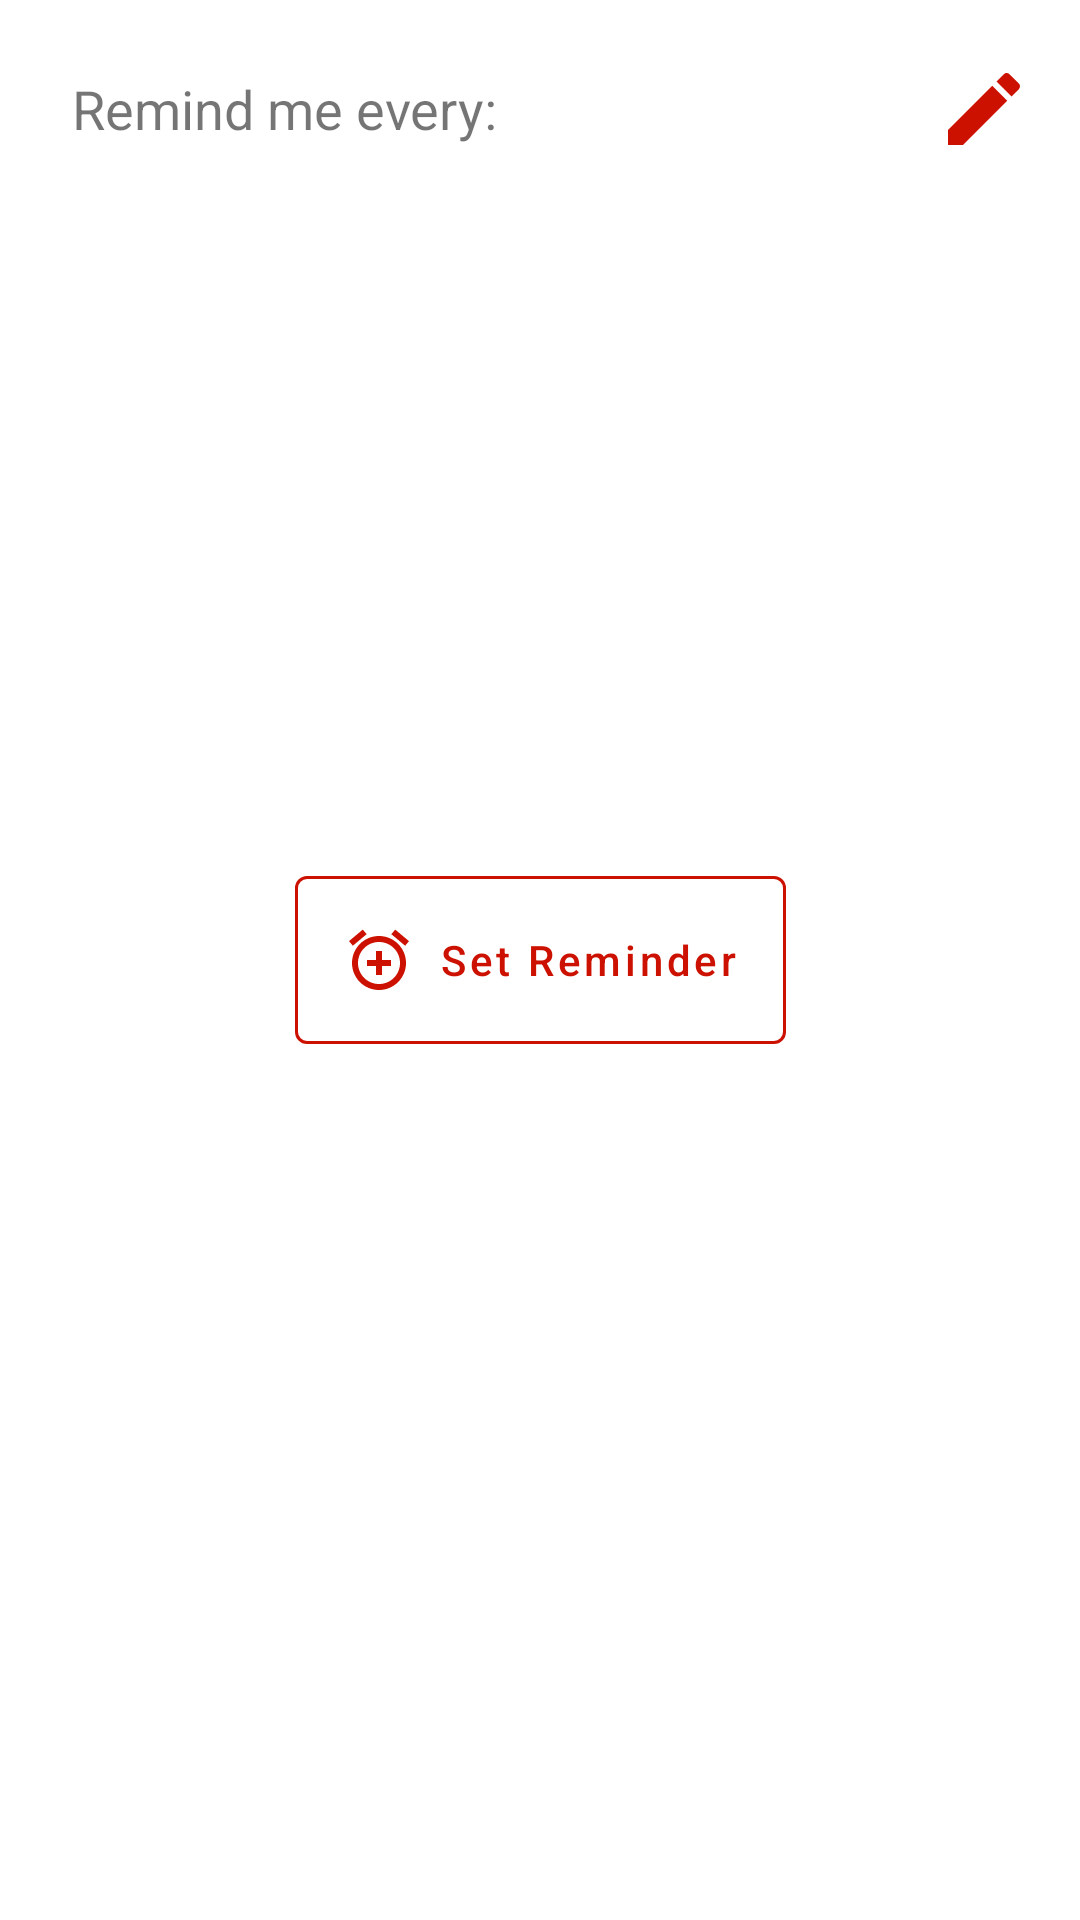

Screen size 1080*1920. Icon name, then its center in pixels as (x=x, y=y):
edit: (x=984, y=109)
